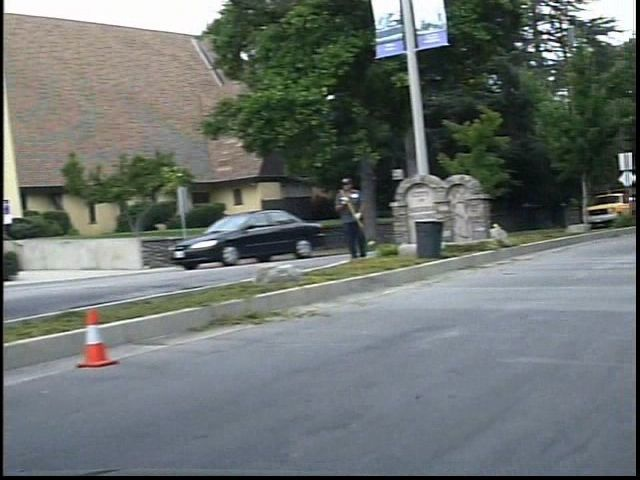person: (343, 173, 383, 264)
